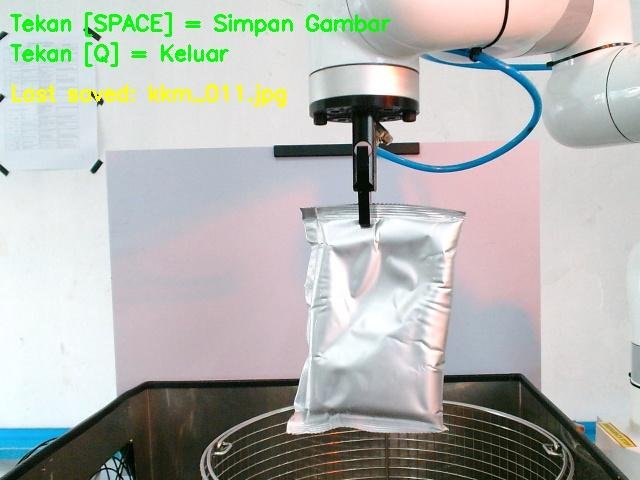retort-pouch: (285, 201, 463, 435)
